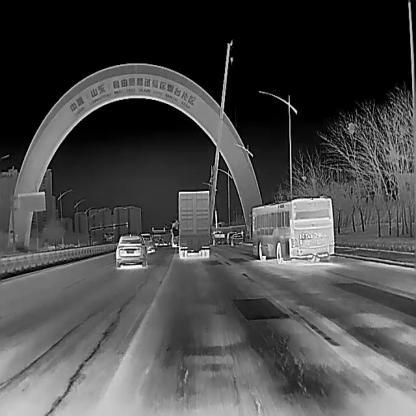car: (248, 197, 334, 263), (178, 190, 210, 257), (115, 234, 147, 267), (139, 233, 155, 254), (170, 220, 179, 252), (230, 233, 243, 246)
